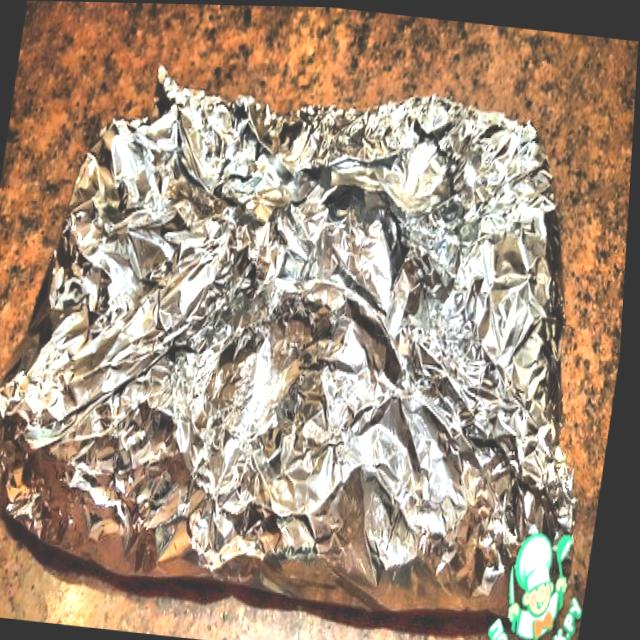Foil: (0, 44, 638, 640)
